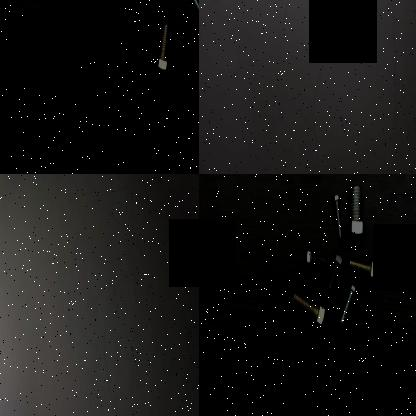Bolts: (292, 286, 329, 334), (344, 182, 368, 245), (154, 23, 176, 78), (346, 252, 378, 286), (339, 279, 359, 329), (96, 6, 122, 42), (326, 248, 344, 296), (302, 242, 328, 274), (330, 193, 344, 241), (187, 0, 199, 31)
